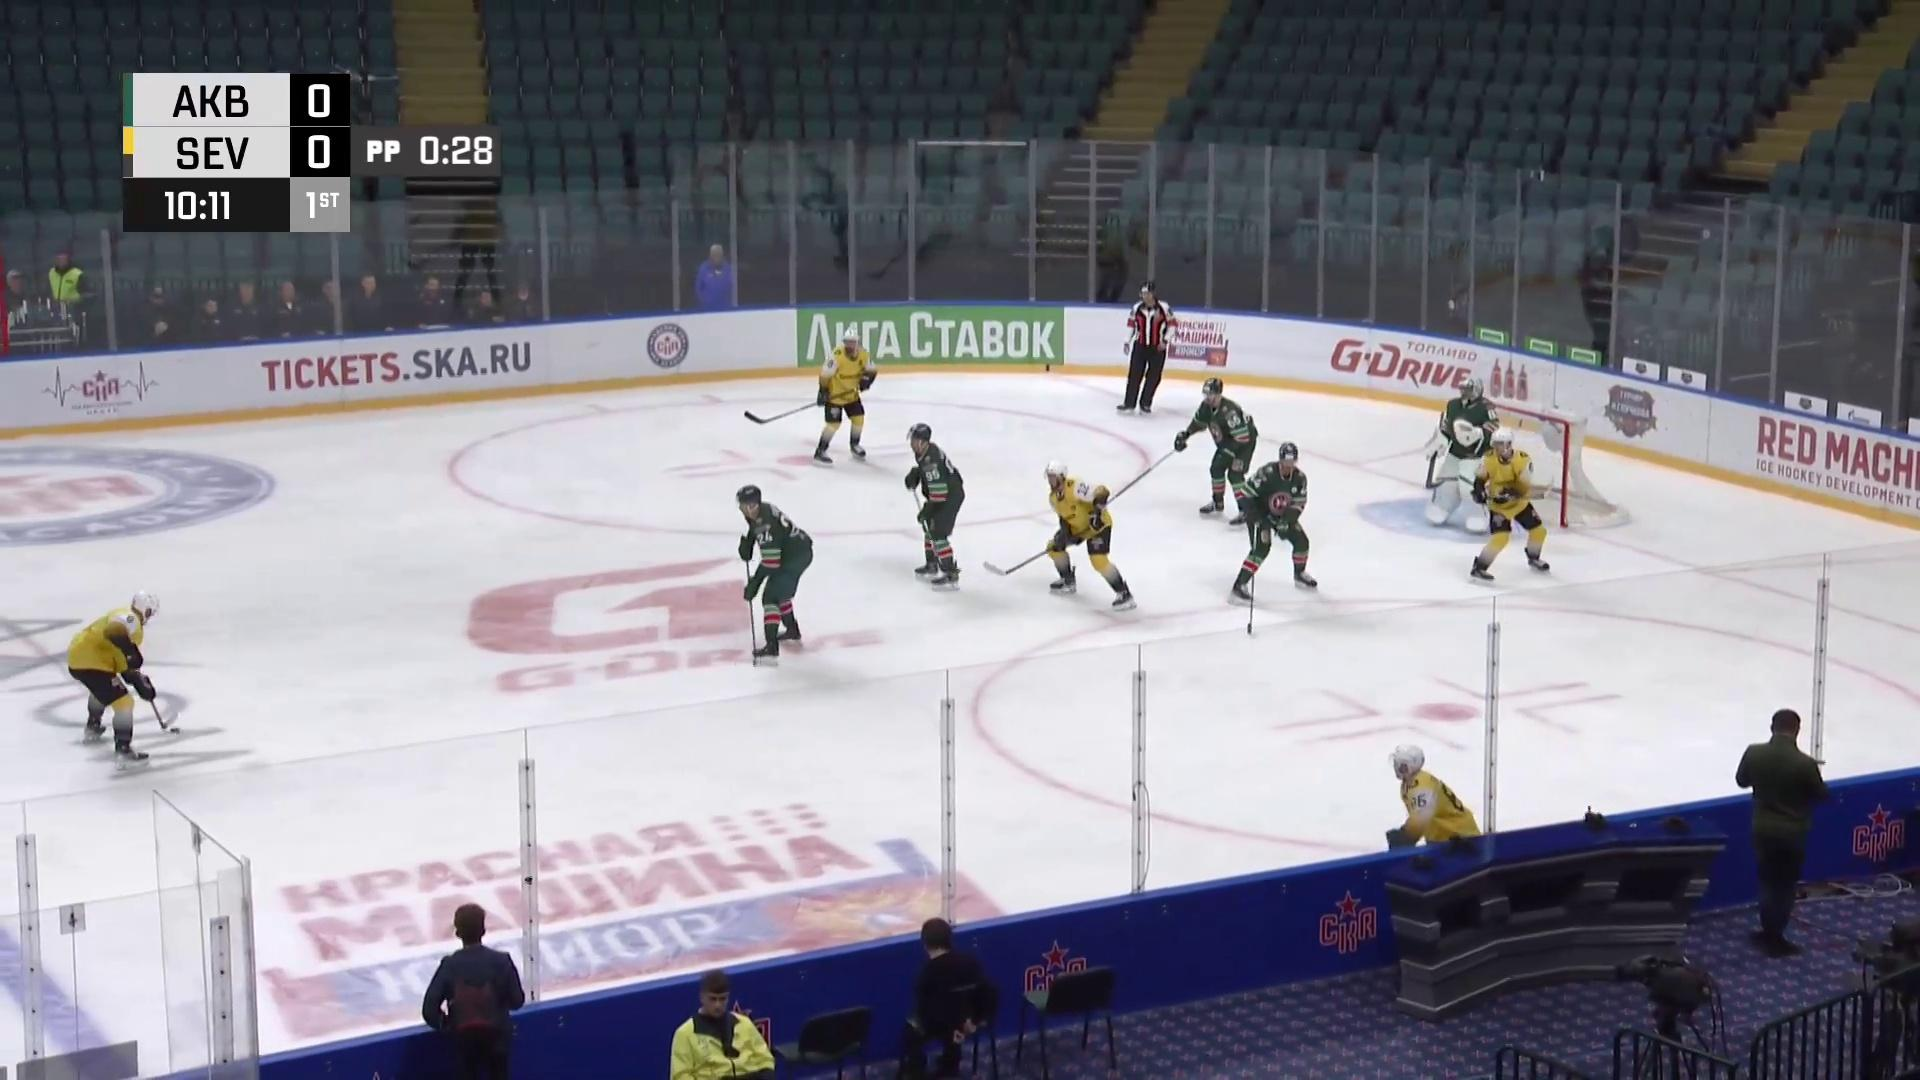ball: (170, 728, 181, 735)
